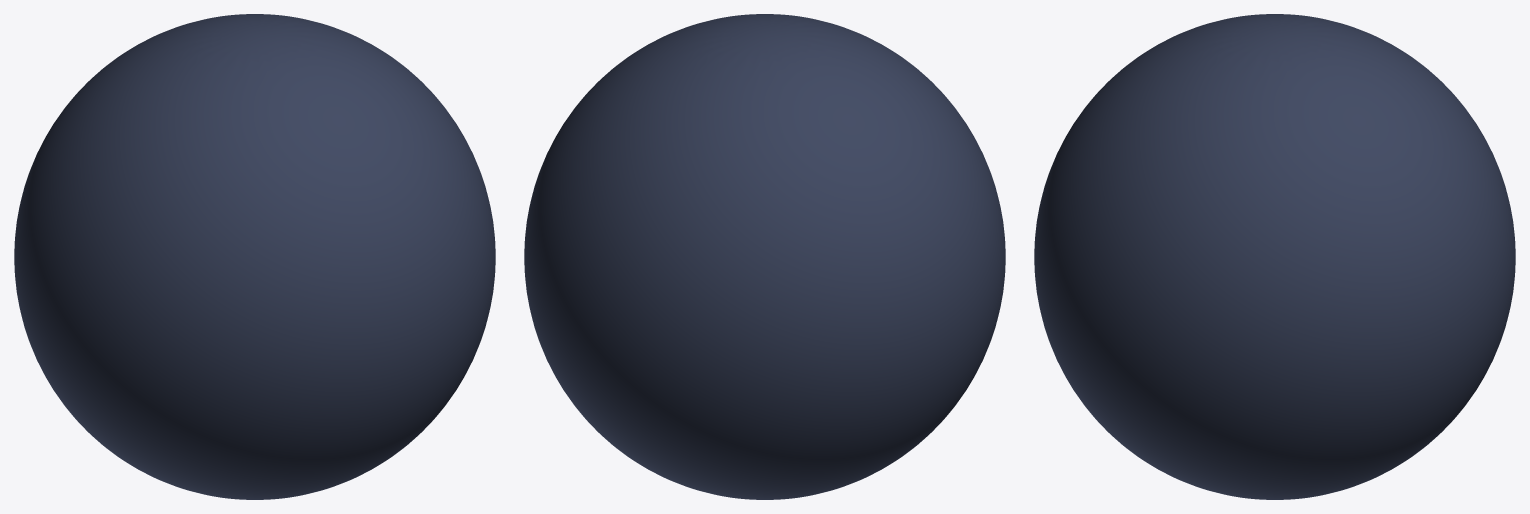
The model's file is DefChar.fbx.
3 views of the same model, side by side, from view 1: azimuth 30°, elevation 25°; view 2: azimuth 150°, elevation 25°; view 3: azimuth 270°, elevation 25° (orthographic).
Parts seen in each view (by area): view 1: Sphere; view 2: Sphere; view 3: Sphere.
Part boxes in pixels (x1,y1,x2,y2): Sphere: [14, 14, 495, 499]; Sphere: [524, 14, 1005, 499]; Sphere: [1034, 14, 1515, 499].
Bounding box in the file's own units: 195 × 199 × 195.
